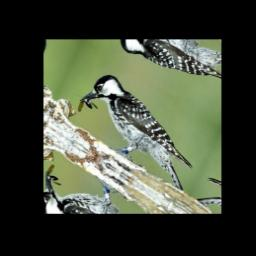Woodpecker: (72, 65, 211, 193)
